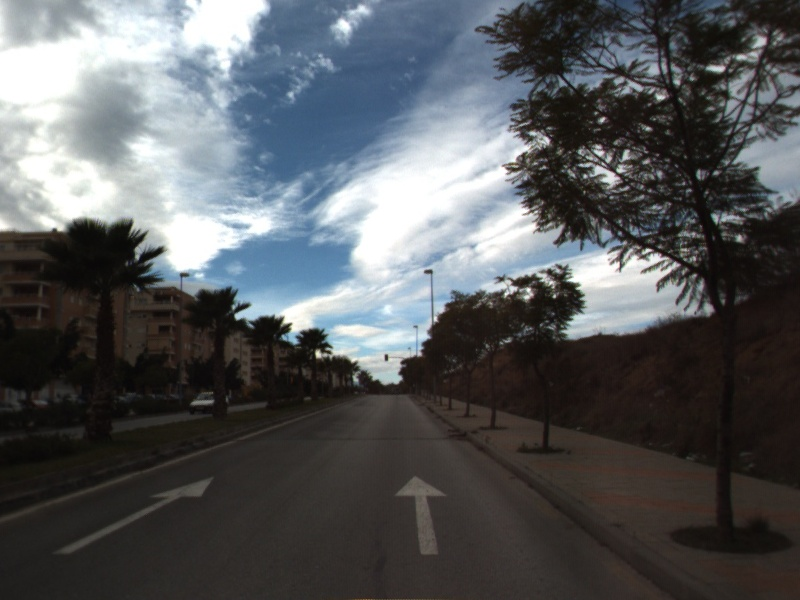STRAIGHT: (51, 474, 217, 556), (393, 473, 450, 556)
